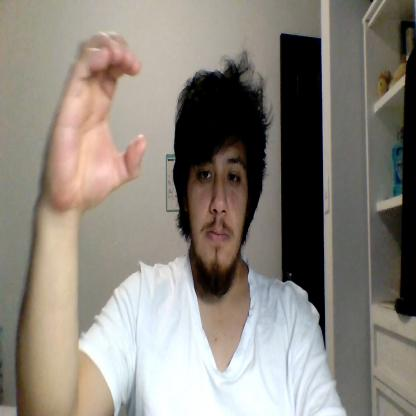C: (42, 32, 146, 205)
